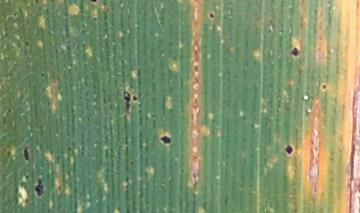tarspot: (32, 177, 45, 197), (121, 90, 131, 112), (288, 45, 301, 57), (159, 134, 173, 145), (284, 143, 294, 156), (22, 146, 30, 160), (207, 11, 215, 19), (91, 15, 99, 23), (319, 83, 328, 90), (38, 71, 46, 78), (24, 173, 31, 181), (131, 95, 138, 102), (129, 159, 135, 166), (67, 145, 73, 151), (24, 40, 30, 46), (88, 1, 99, 4), (34, 1, 40, 5), (192, 1, 199, 3)
